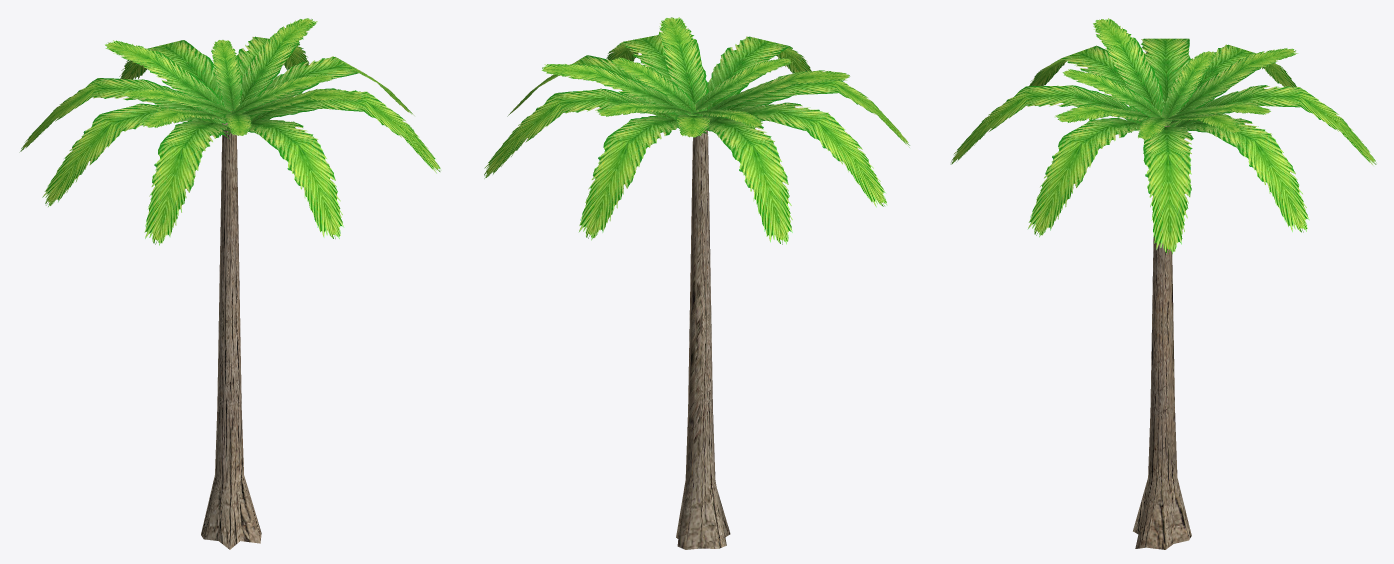
The model's file is tree8.FBX.
The picture shows the model from 3 angles, left to right: view 1: azimuth 30°, elevation 25°; view 2: azimuth 150°, elevation 25°; view 3: azimuth 270°, elevation 25°; orthographic projection. The views are drawn at different scales.
Parts seen in each view (by area): view 1: Cylinder001; view 2: Cylinder001; view 3: Cylinder001.
Part boxes in pixels (x1=…): Cylinder001: x1=19, y1=18, x2=441, y2=549; Cylinder001: x1=484, y1=17, x2=909, y2=549; Cylinder001: x1=950, y1=18, x2=1376, y2=549.
Bounding box in the file's own units: 98.92 × 118 × 98.74.
